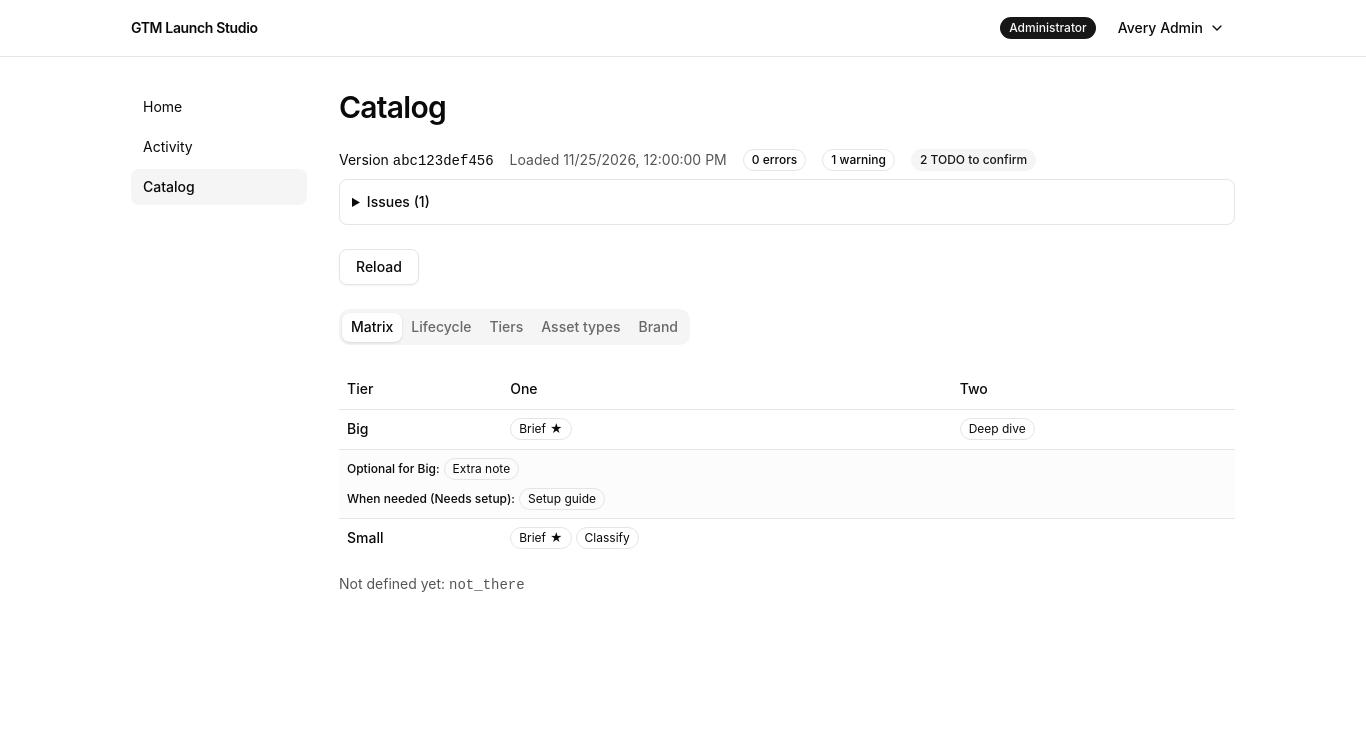
Test: CatalogPage › Matrix tab › opens the asset type's sheet from a chip
The width and height of the screenshot is (1366, 756).
Expected: the heading "Catalog" is shown, [339, 89, 446, 125]
# Brief is core for both tiers, so two chips match: either opens the same sheet.
Click the button with aria-label "Brief (foundation)": (541, 428) [510, 418, 572, 440]
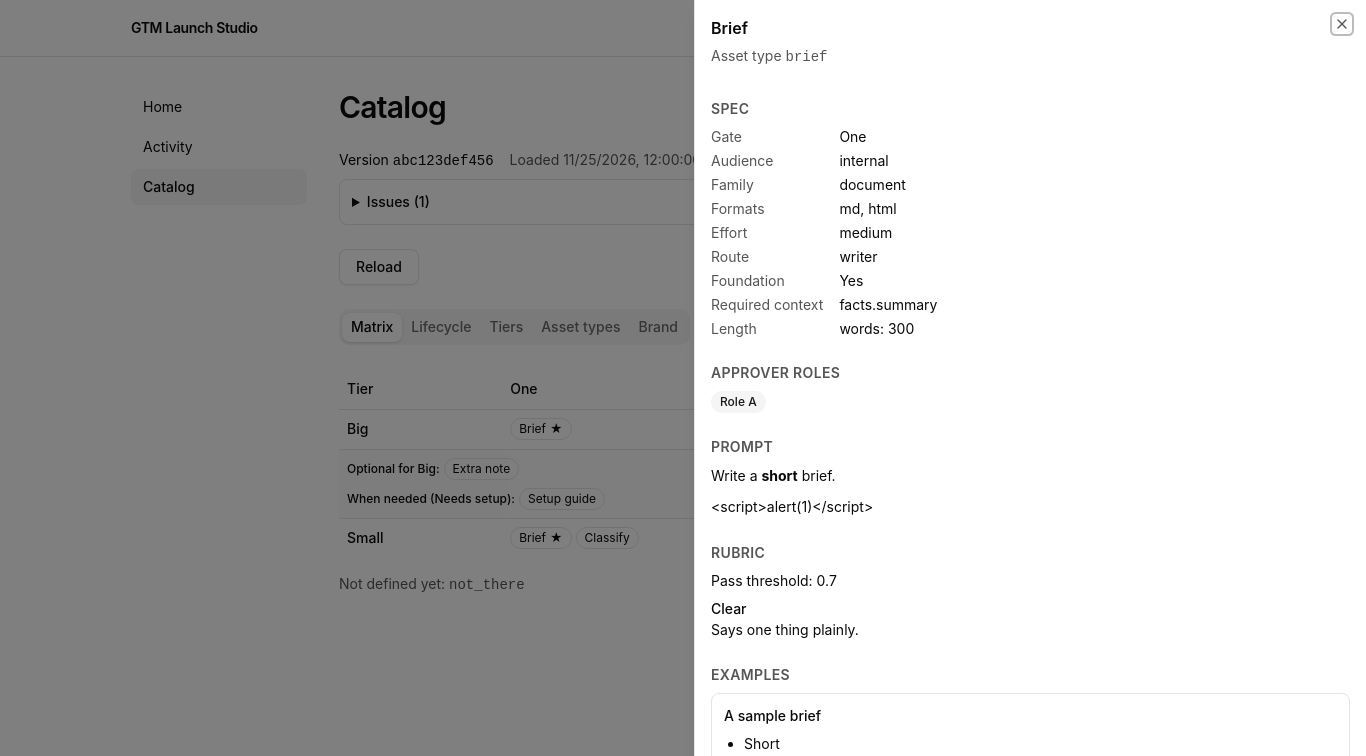
Now the text "Pass threshold: 0.7" is shown, box [711, 572, 837, 588]
